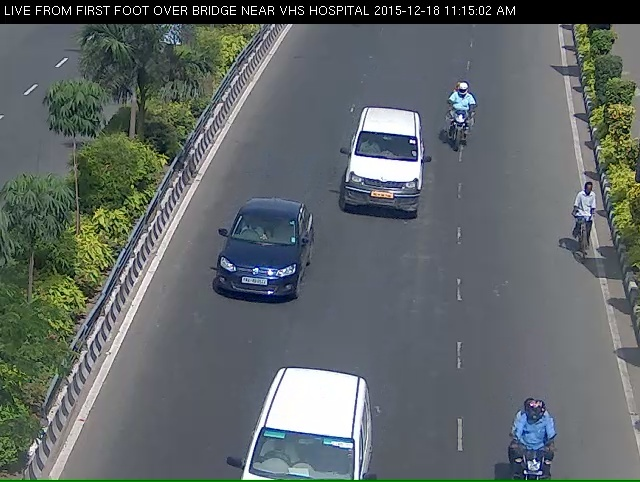Car: (204, 203, 301, 325), (340, 110, 428, 234)
Person: (507, 415, 563, 481), (568, 179, 603, 260), (441, 85, 479, 158)
